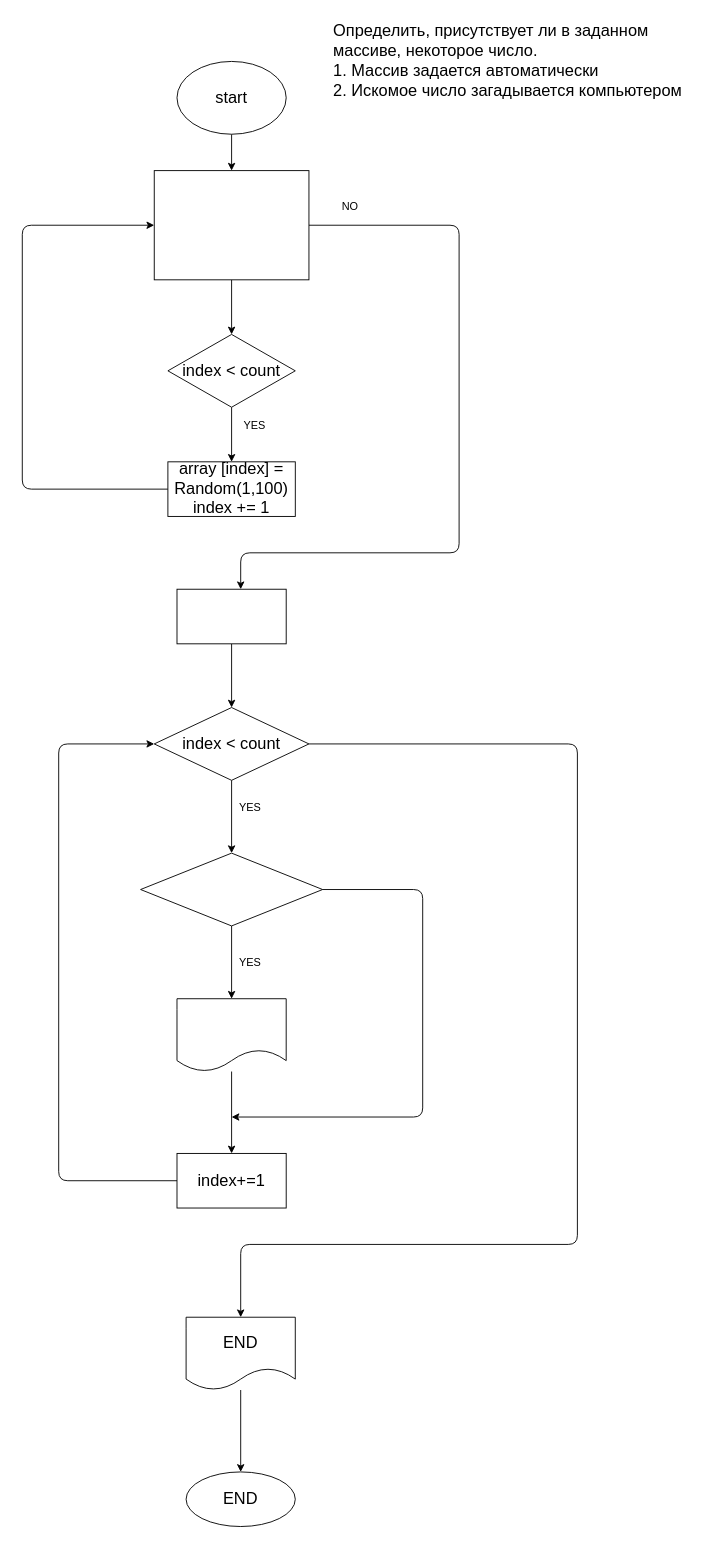
Some shapes in this 721 by 1542 pixel diagram are drawn without their labels. The shapes that lost their labels are listed below. From the top down, each one's box as (x1, y1, x2, y2) in pixels, then its label:
(153, 170, 309, 280): count = 10 array[ count ] find =Random(1, 20) index = 0
(176, 588, 286, 644): index = 0
(140, 852, 323, 926): array[index] == find
(176, 998, 286, 1072): ДА
